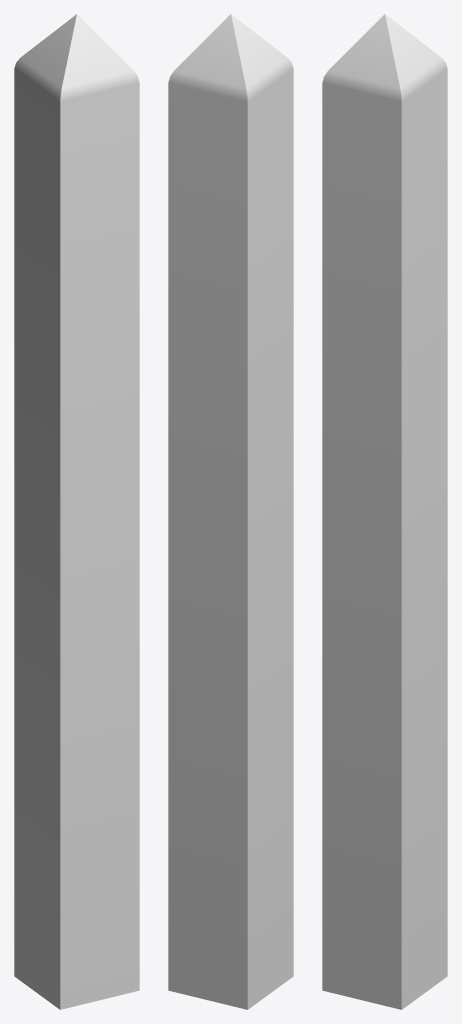
The model's file is FencePost.fbx.
The picture shows the model from 3 angles, left to right: view 1: azimuth 30°, elevation 25°; view 2: azimuth 150°, elevation 25°; view 3: azimuth 330°, elevation 25°; orthographic projection.
Parts seen in each view (by area): view 1: FencePost; view 2: FencePost; view 3: FencePost.
Boxes of the visible parts, left/top/right/bottom form: FencePost: left=14, top=14, right=139, bottom=1009; FencePost: left=168, top=14, right=293, bottom=1009; FencePost: left=322, top=14, right=447, bottom=1009.
Bounding box in the file's own units: 6 × 70 × 6.
